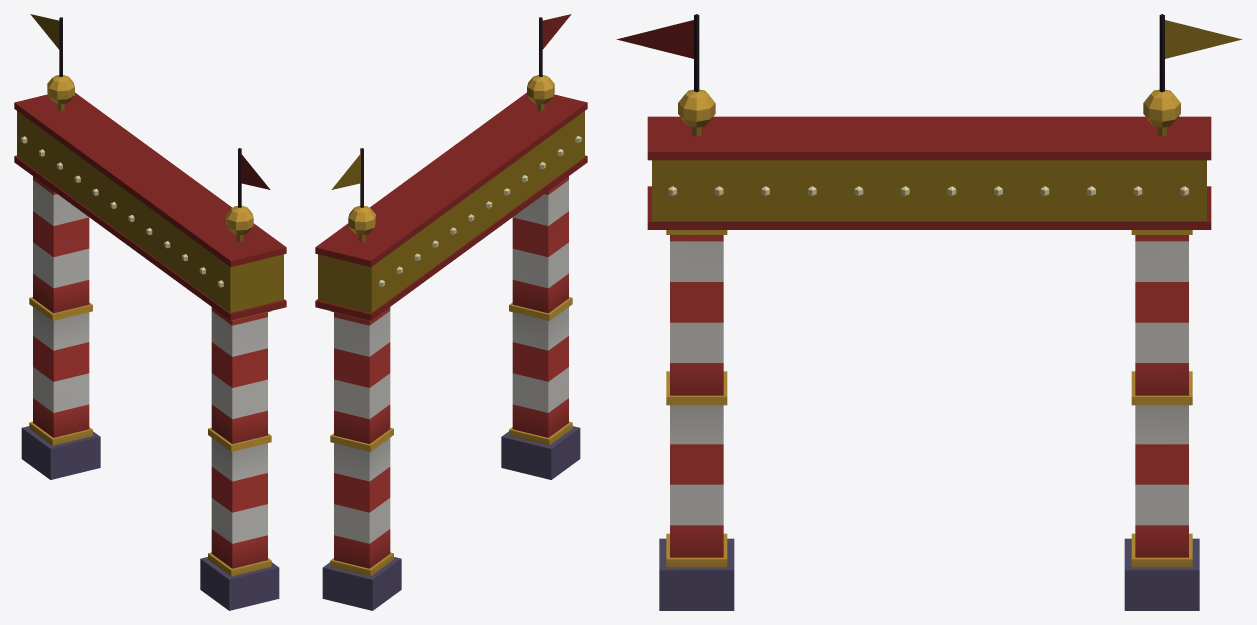
The model's file is g_arch.glb.
3 views of the same model, side by side, from view 1: azimuth 30°, elevation 25°; view 2: azimuth 150°, elevation 25°; view 3: azimuth 270°, elevation 25° (orthographic). The views are drawn at different scales.
Parts seen in each view (by area): view 1: g_arch; view 2: g_arch; view 3: g_arch.
Boxes of the visible parts, bbox=[...] form: g_arch: bbox=[14, 14, 286, 610]; g_arch: bbox=[315, 14, 587, 610]; g_arch: bbox=[616, 14, 1242, 610].
Bounding box in the file's own units: 1.03 × 7.15 × 7.
